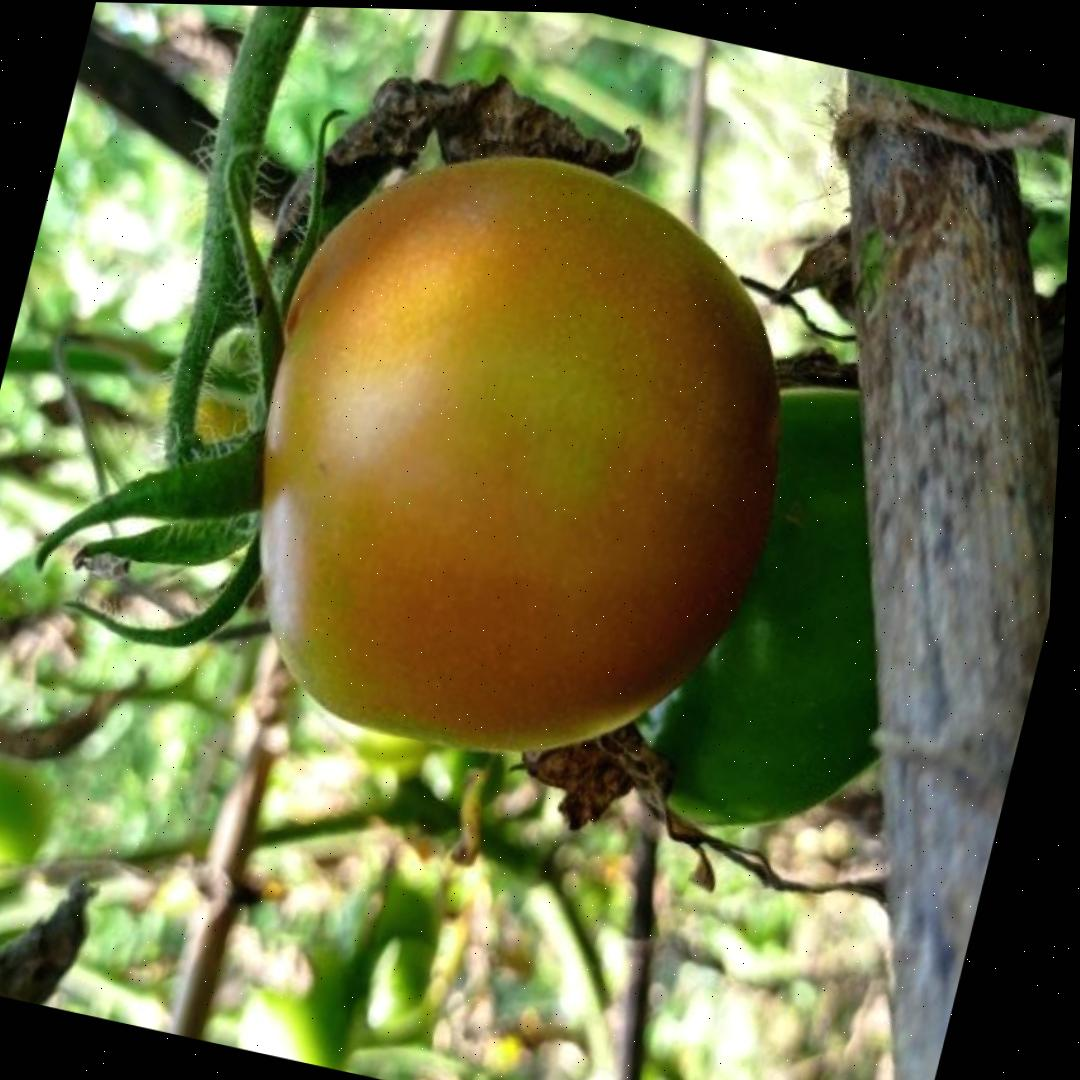setengah_matang: (182, 103, 855, 817)
